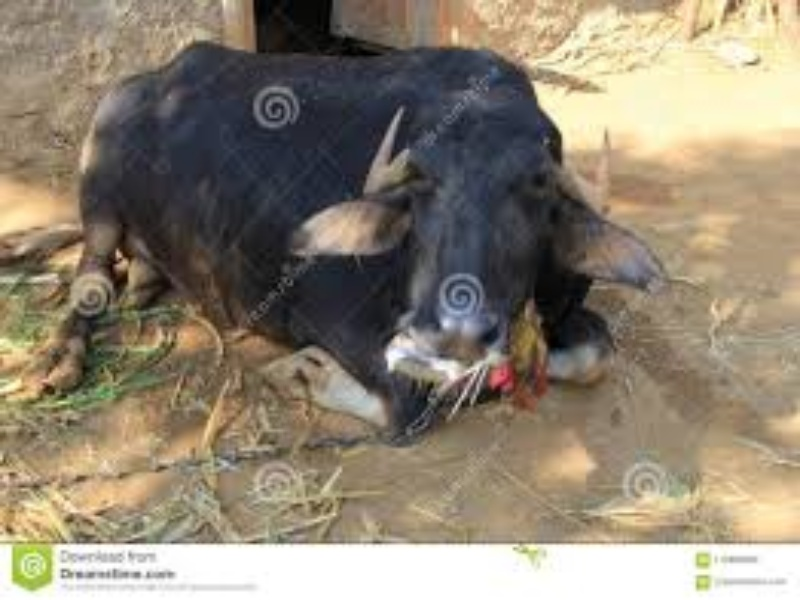buffalo: (55, 39, 659, 406)
